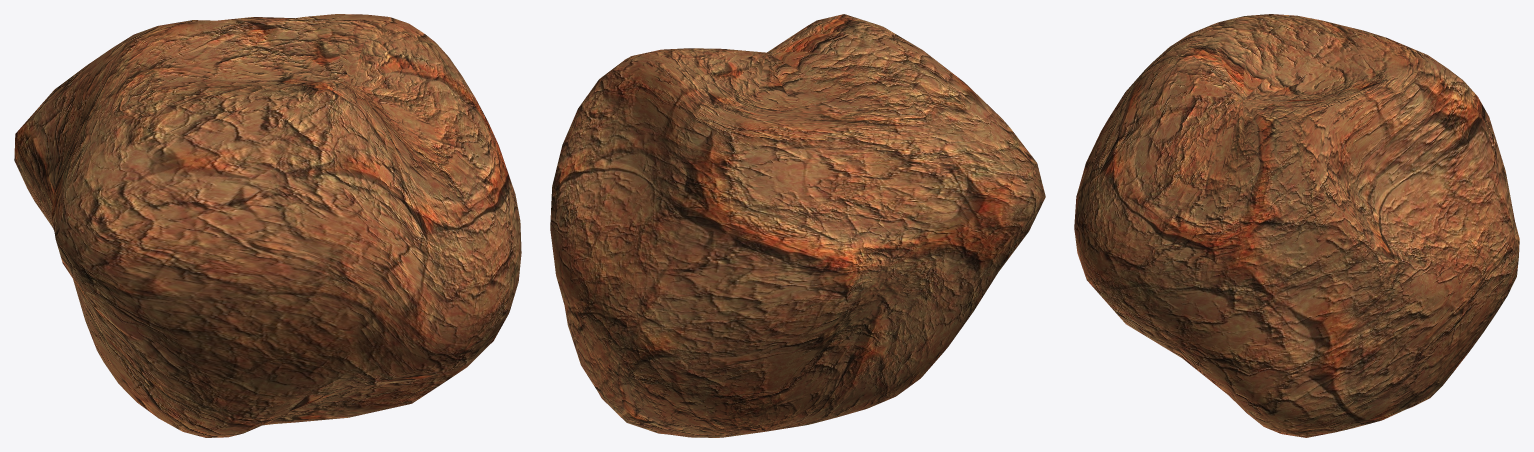
The model's file is Meteoro_P.obj.
The picture shows the model from 3 angles, left to right: view 1: azimuth 30°, elevation 25°; view 2: azimuth 150°, elevation 25°; view 3: azimuth 270°, elevation 25°; orthographic projection. The views are drawn at different scales.
Visible parts, largest first — view 1: Sphere003; view 2: Sphere003; view 3: Sphere003.
Part boxes in pixels (bbox=[...]): Sphere003: bbox=[14, 14, 521, 437]; Sphere003: bbox=[550, 14, 1045, 437]; Sphere003: bbox=[1074, 14, 1519, 437].
Bounding box in the file's own units: 11.75 × 9.31 × 11.46.
